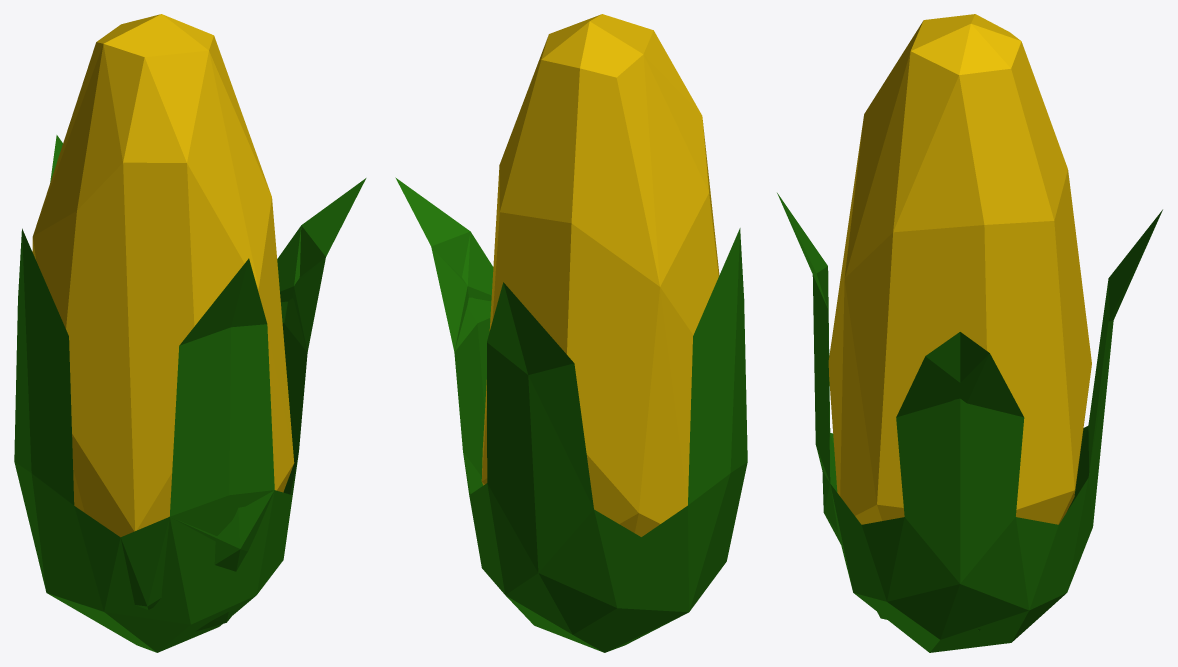
The model's file is food_corn.fbx.
3 renders of one model, left to right at view 1: azimuth 30°, elevation 25°; view 2: azimuth 150°, elevation 25°; view 3: azimuth 270°, elevation 25°, orthographic.
Parts seen in each view (by area): view 1: Cube; view 2: Cube; view 3: Cube.
Part boxes in pixels (<box>): Cube: <box>14,14,366,652</box>; Cube: <box>395,14,747,652</box>; Cube: <box>777,14,1162,652</box>.
Bounding box in the file's own units: 261 × 448 × 252.
